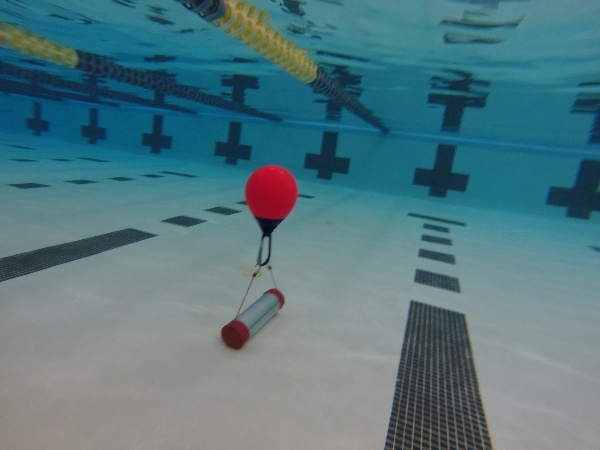buoy_red: (240, 159, 302, 238)
